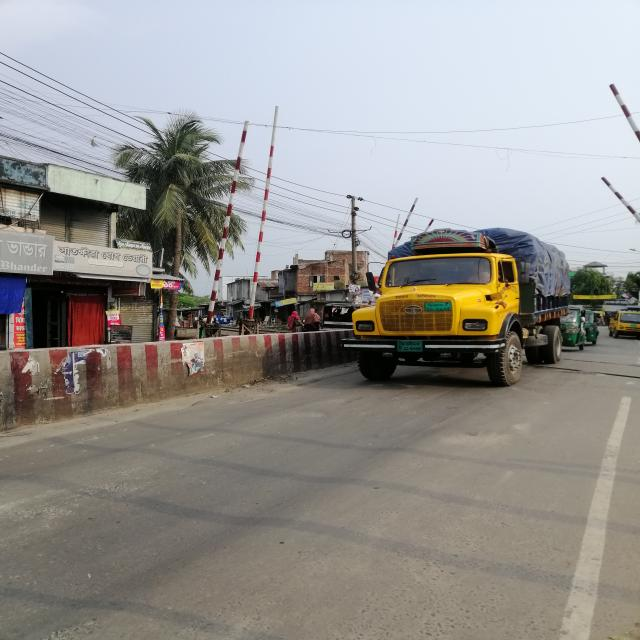Truck: (323, 222, 574, 400)
